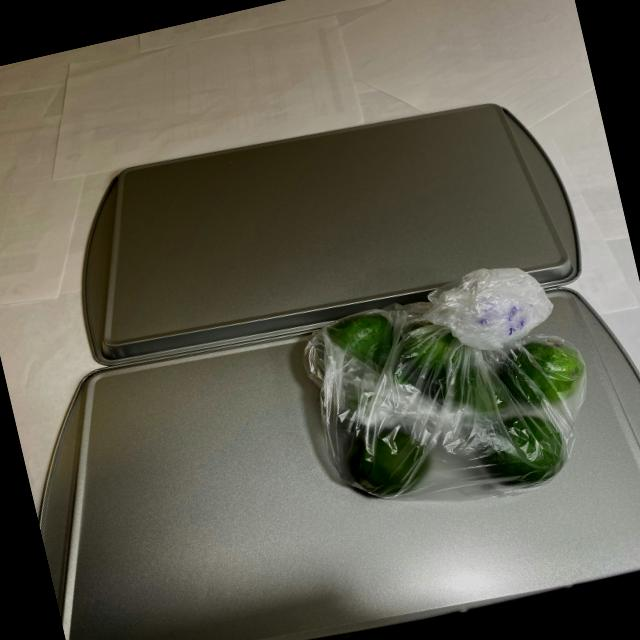lemon: (286, 264, 602, 528)
